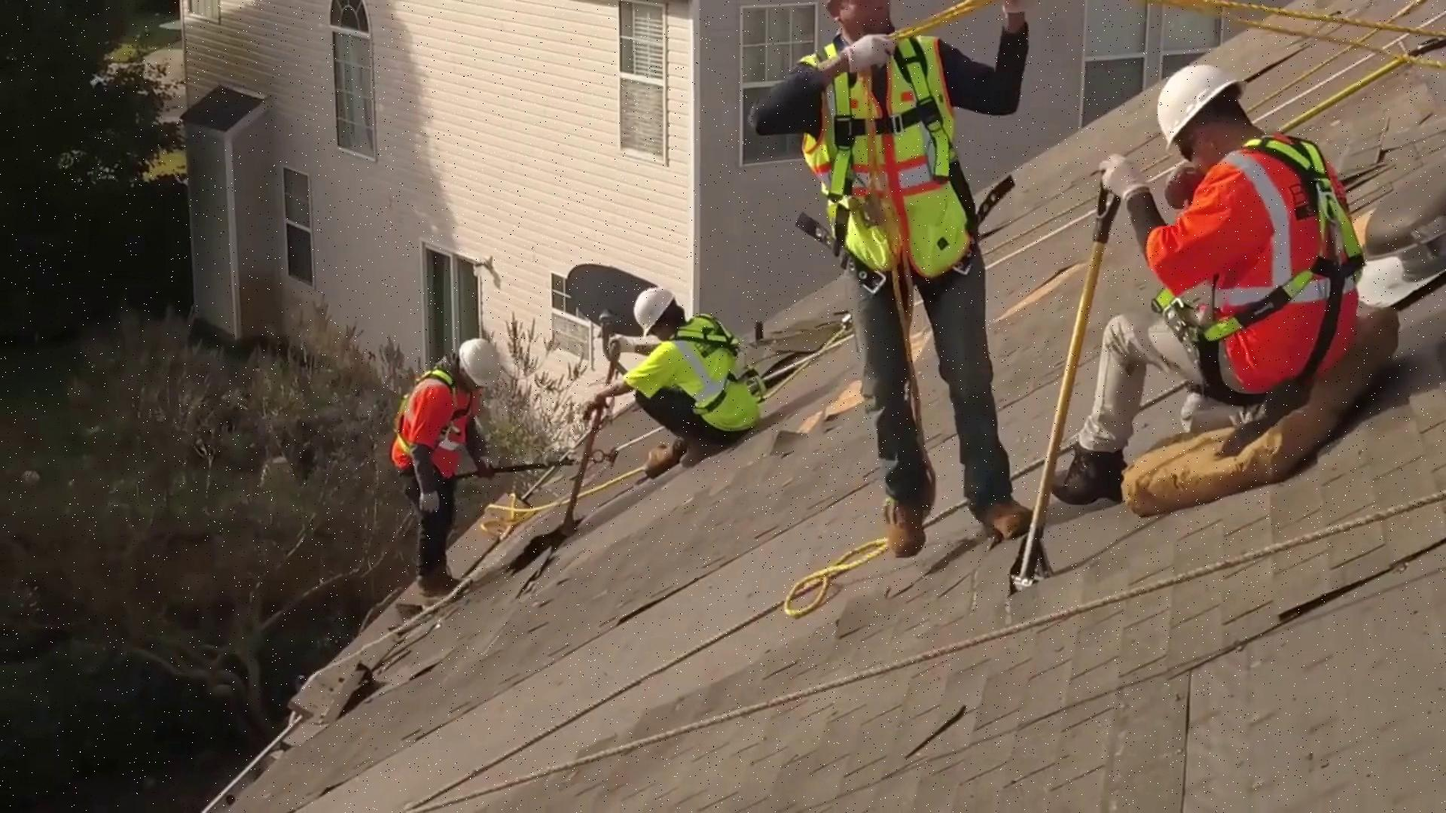Hard_hat: (1148, 59, 1245, 148), (463, 337, 499, 383), (639, 285, 674, 332)
Vest: (1162, 116, 1361, 383), (812, 27, 946, 283), (652, 315, 756, 428), (388, 379, 471, 488)
